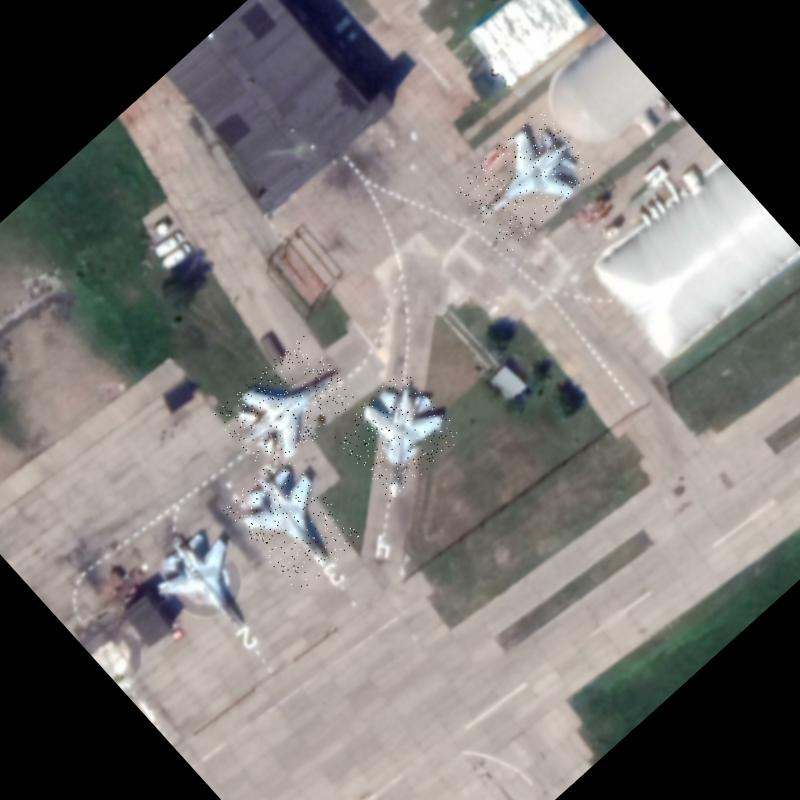A1: (212, 333, 360, 479), (450, 107, 598, 253), (135, 513, 277, 657), (221, 450, 362, 594)
A19: (329, 367, 465, 502)
